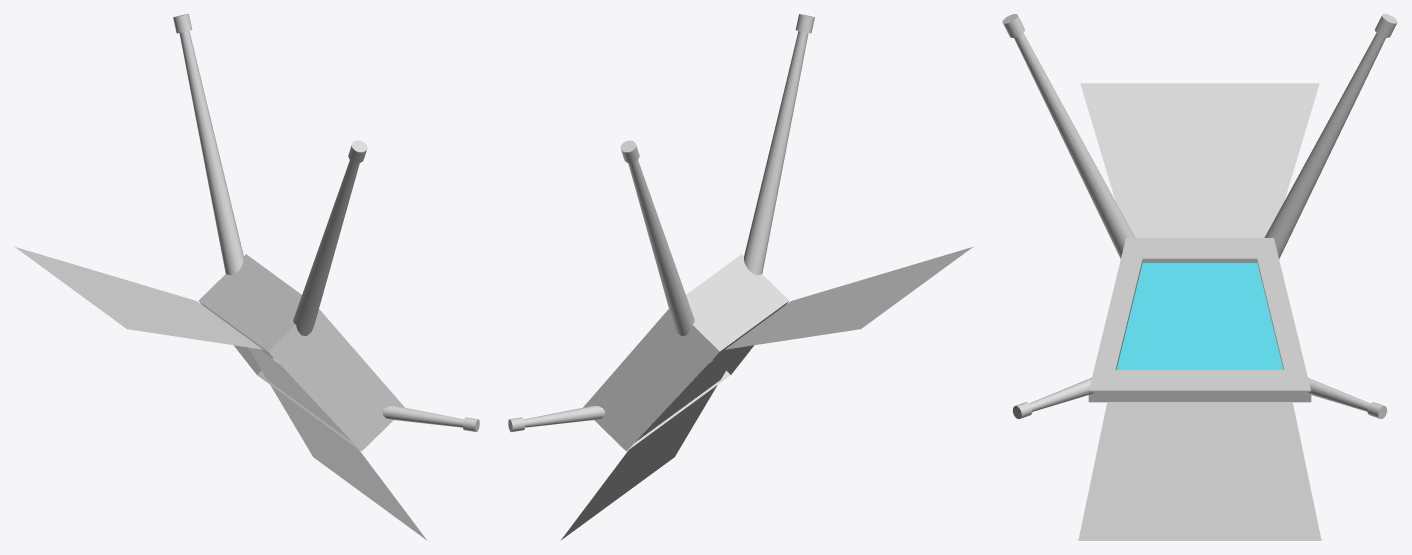
The model's file is Mod_Pauldron_L_Snail1.fbx.
The picture shows the model from 3 angles, left to right: view 1: azimuth 30°, elevation 25°; view 2: azimuth 150°, elevation 25°; view 3: azimuth 270°, elevation 25°; orthographic projection. The views are drawn at different scales.
Visible parts, largest first — view 1: Mod_Pauldron_L_Snail1; view 2: Mod_Pauldron_L_Snail1; view 3: Mod_Pauldron_L_Snail1.
Part boxes in pixels (bbox=[...]): Mod_Pauldron_L_Snail1: bbox=[14, 14, 479, 540]; Mod_Pauldron_L_Snail1: bbox=[508, 14, 973, 540]; Mod_Pauldron_L_Snail1: bbox=[1002, 14, 1397, 540].
Size of the model in its own units: 237 by 310 by 234.
